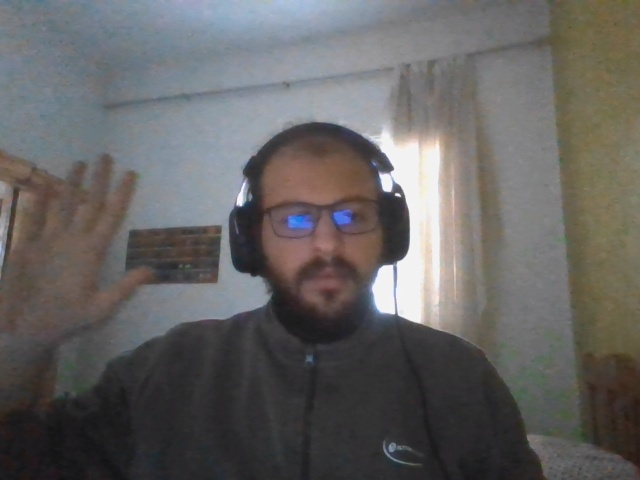Hello: (2, 152, 152, 344)
